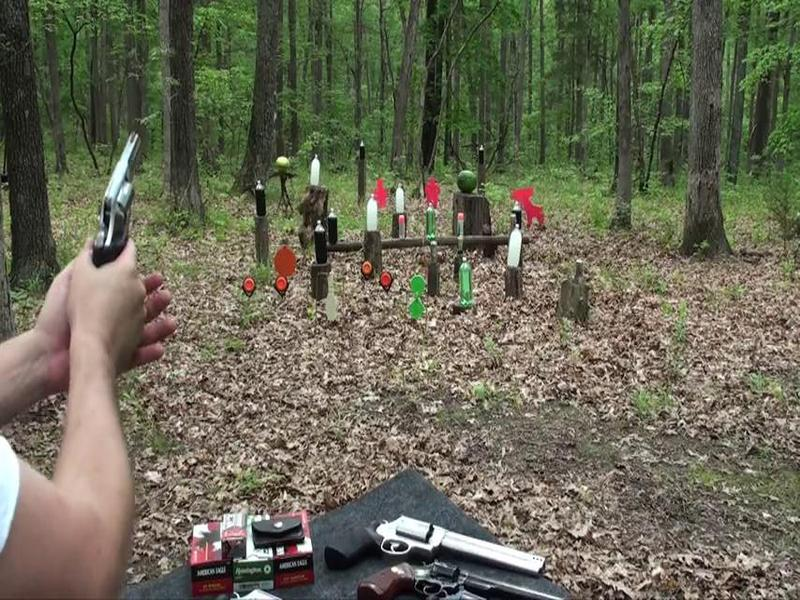Revolver: (72, 119, 197, 286)
